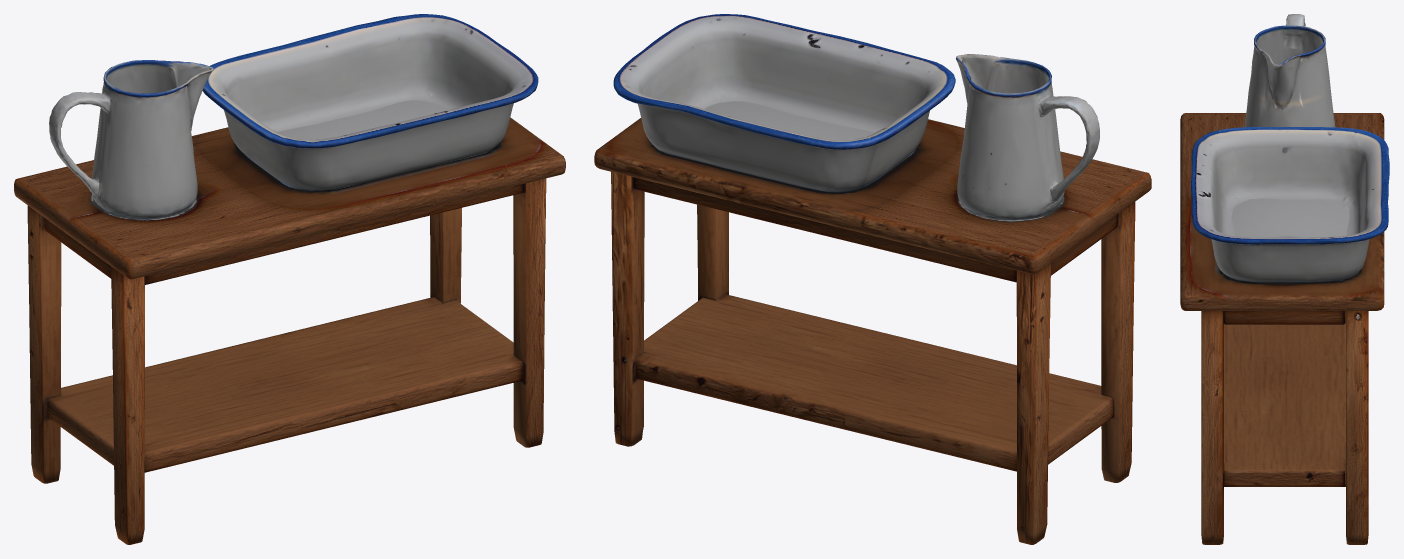
Rendered from prop-washstand-v01.glb.
3 renders of one model, left to right at view 1: azimuth 30°, elevation 25°; view 2: azimuth 150°, elevation 25°; view 3: azimuth 270°, elevation 25°, orthographic. The views are drawn at different scales.
Parts seen in each view (by area): view 1: tripo_node_e1d7810f-7684-4edf-b15d-7b6859b28ee3; view 2: tripo_node_e1d7810f-7684-4edf-b15d-7b6859b28ee3; view 3: tripo_node_e1d7810f-7684-4edf-b15d-7b6859b28ee3.
Part boxes in pixels (x1,y1,x2,y2): tripo_node_e1d7810f-7684-4edf-b15d-7b6859b28ee3: [14, 14, 565, 544]; tripo_node_e1d7810f-7684-4edf-b15d-7b6859b28ee3: [594, 14, 1151, 544]; tripo_node_e1d7810f-7684-4edf-b15d-7b6859b28ee3: [1180, 14, 1389, 544].
Size of the model in its own units: 1.18 by 1.05 by 0.5521.
Materials: 1 (1 with a texture image).
